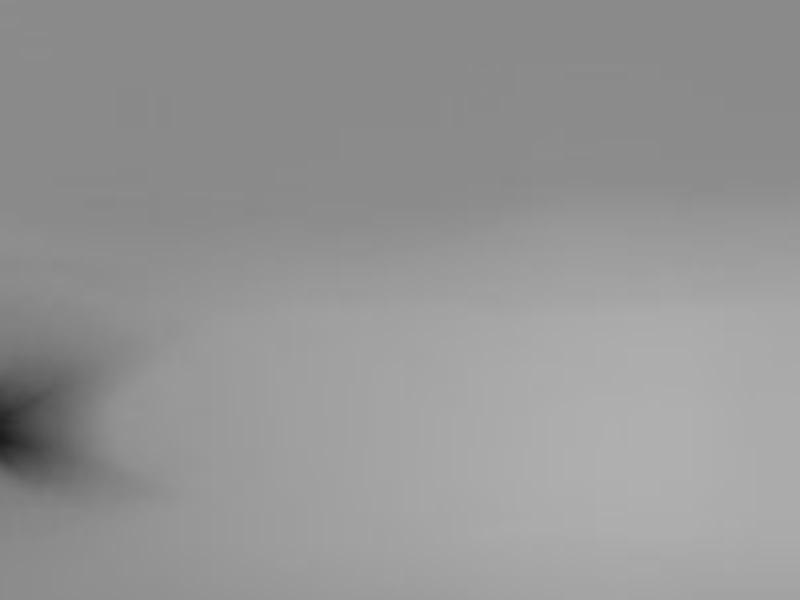defect: (1, 380, 20, 463)
